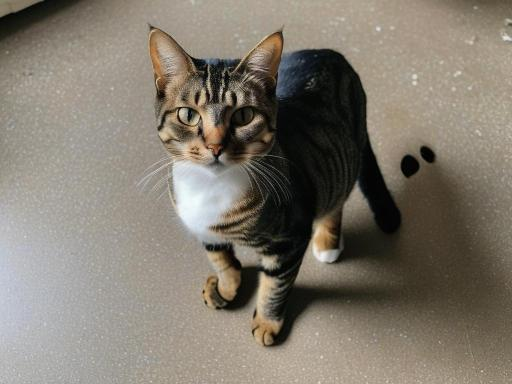cat_standing: (148, 28, 400, 346)
